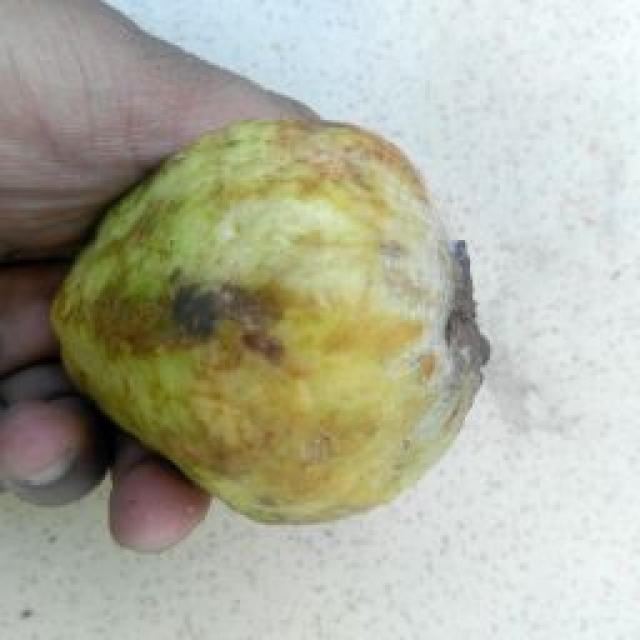Bad_Guava: (51, 121, 489, 522)
